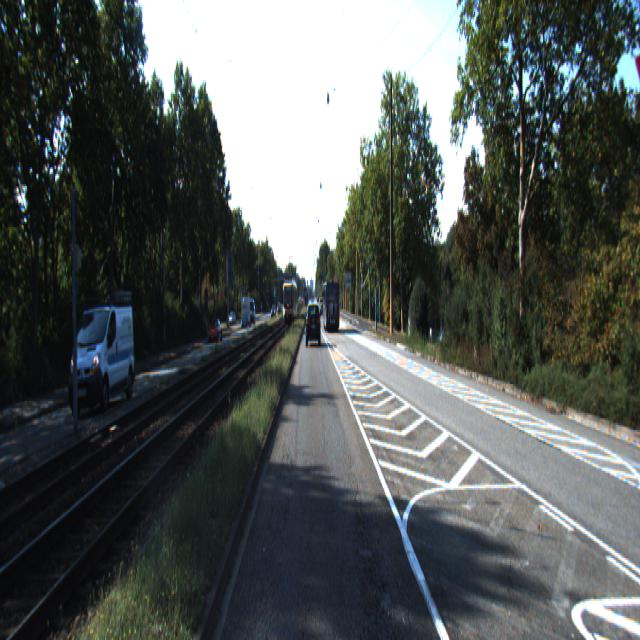Car: (69, 303, 138, 417), (322, 278, 340, 331), (306, 304, 321, 348)
